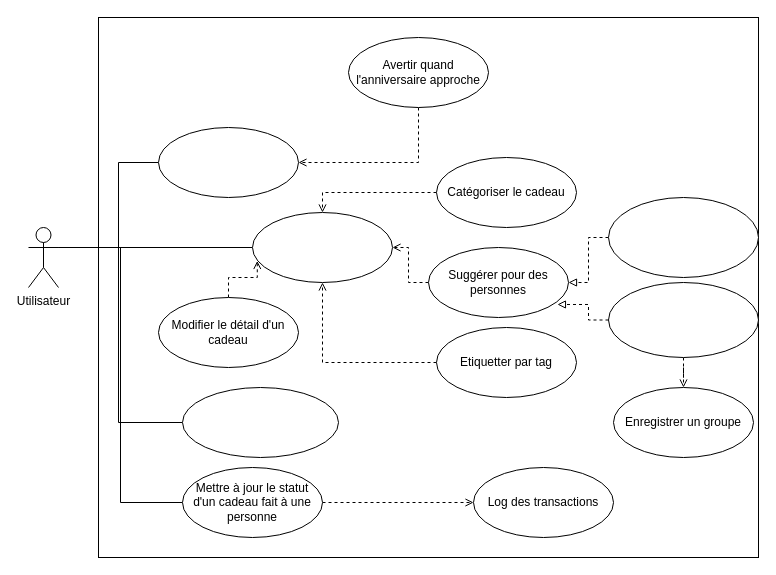
Image size: 776x575. Some labels were removed from this diagram. Each missing label, with the centre of its shape:
Enregistrer des personnes: point 228,162
Noter un cadeau: point 322,247
Préparer une liste de cadeaux à faire: point 260,422
Suggérer pour quelqu'un en particulier: point 683,237
Suggérer pour un groupe de personnes: point 683,320
